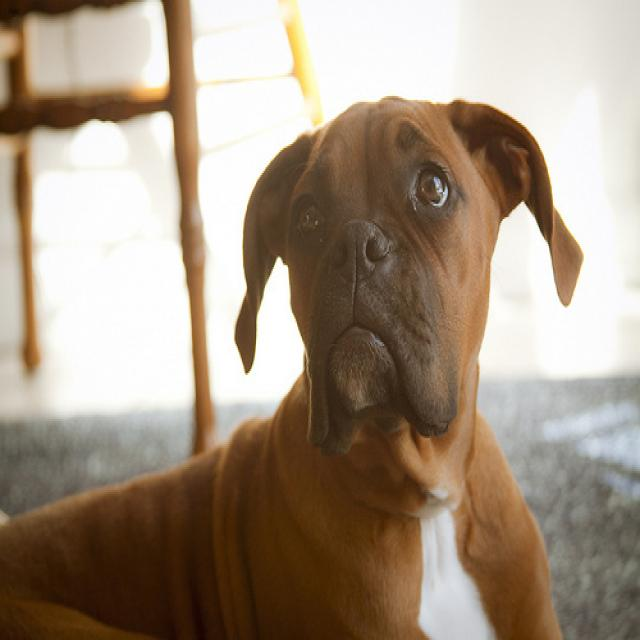dog-boxer: (1, 86, 594, 636)
